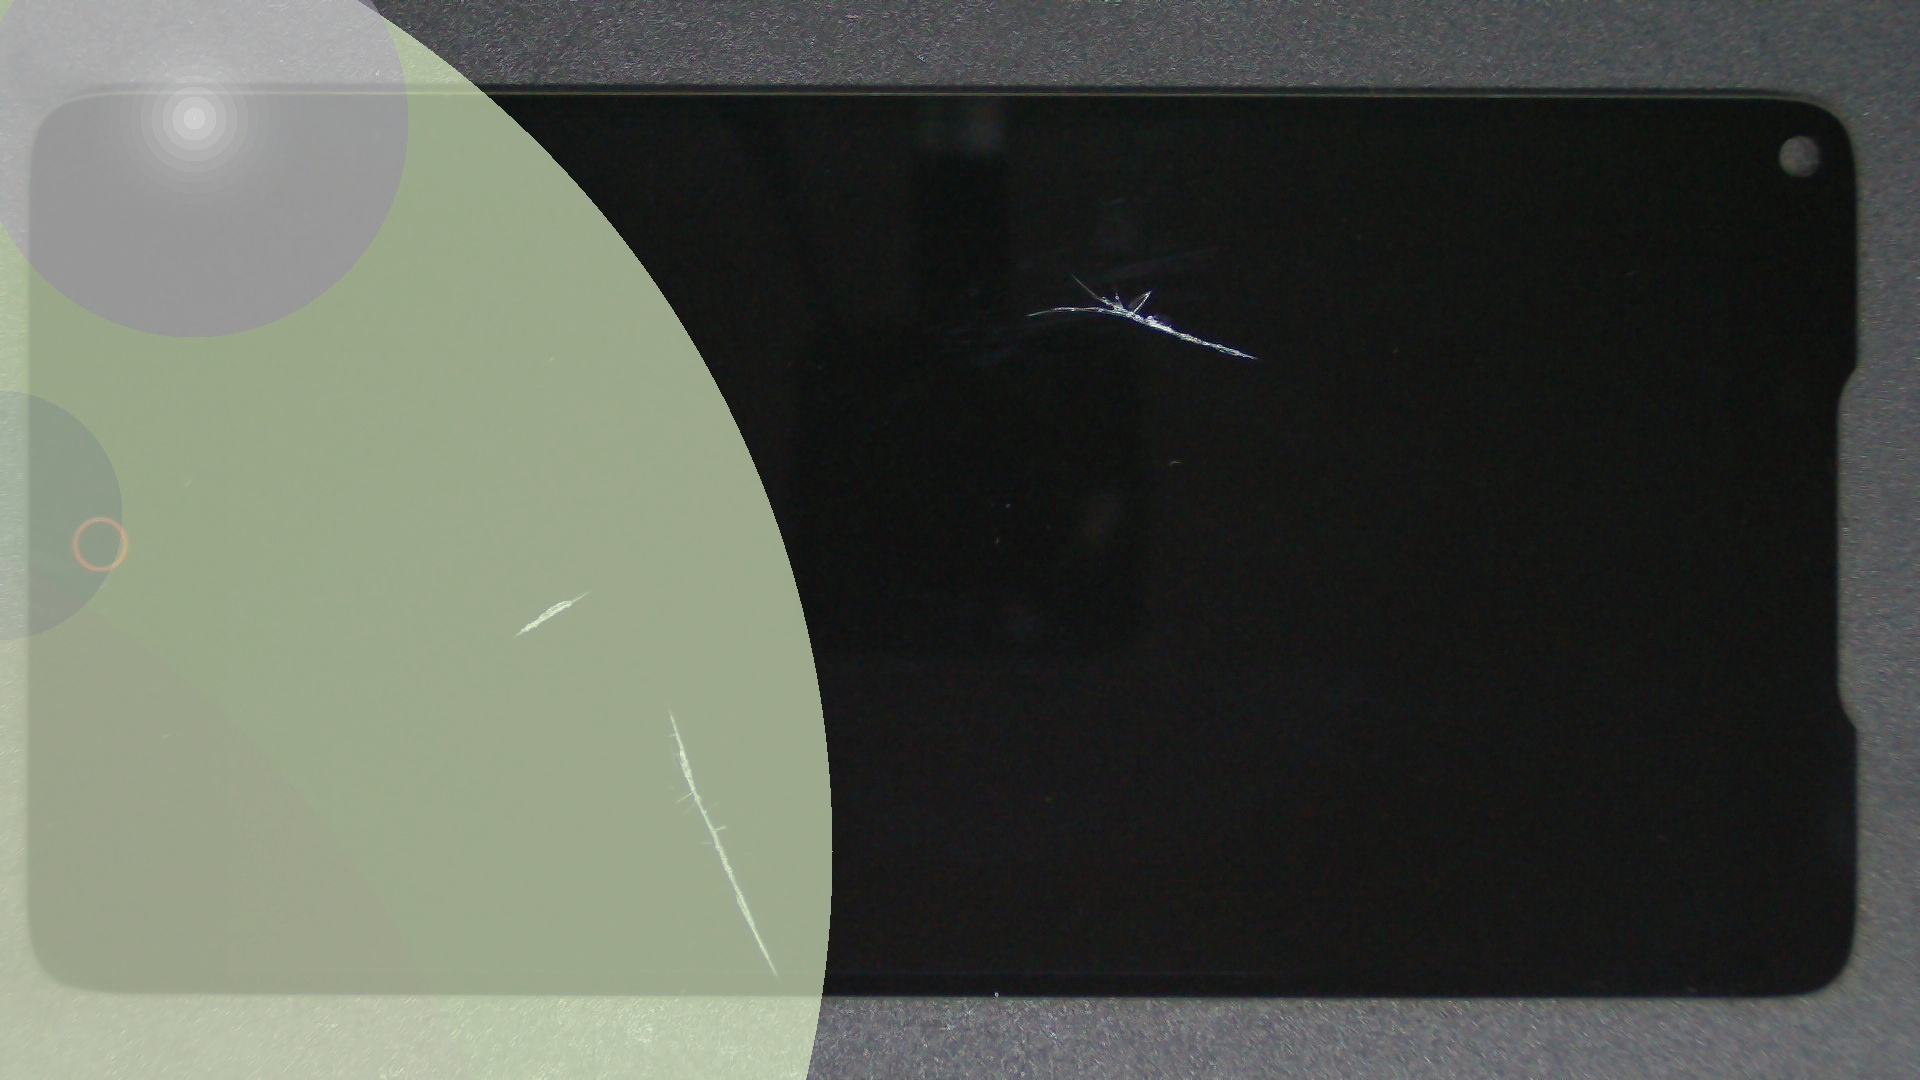oil: (335, 353, 1005, 1064), (295, 294, 884, 884), (537, 137, 1610, 415)
